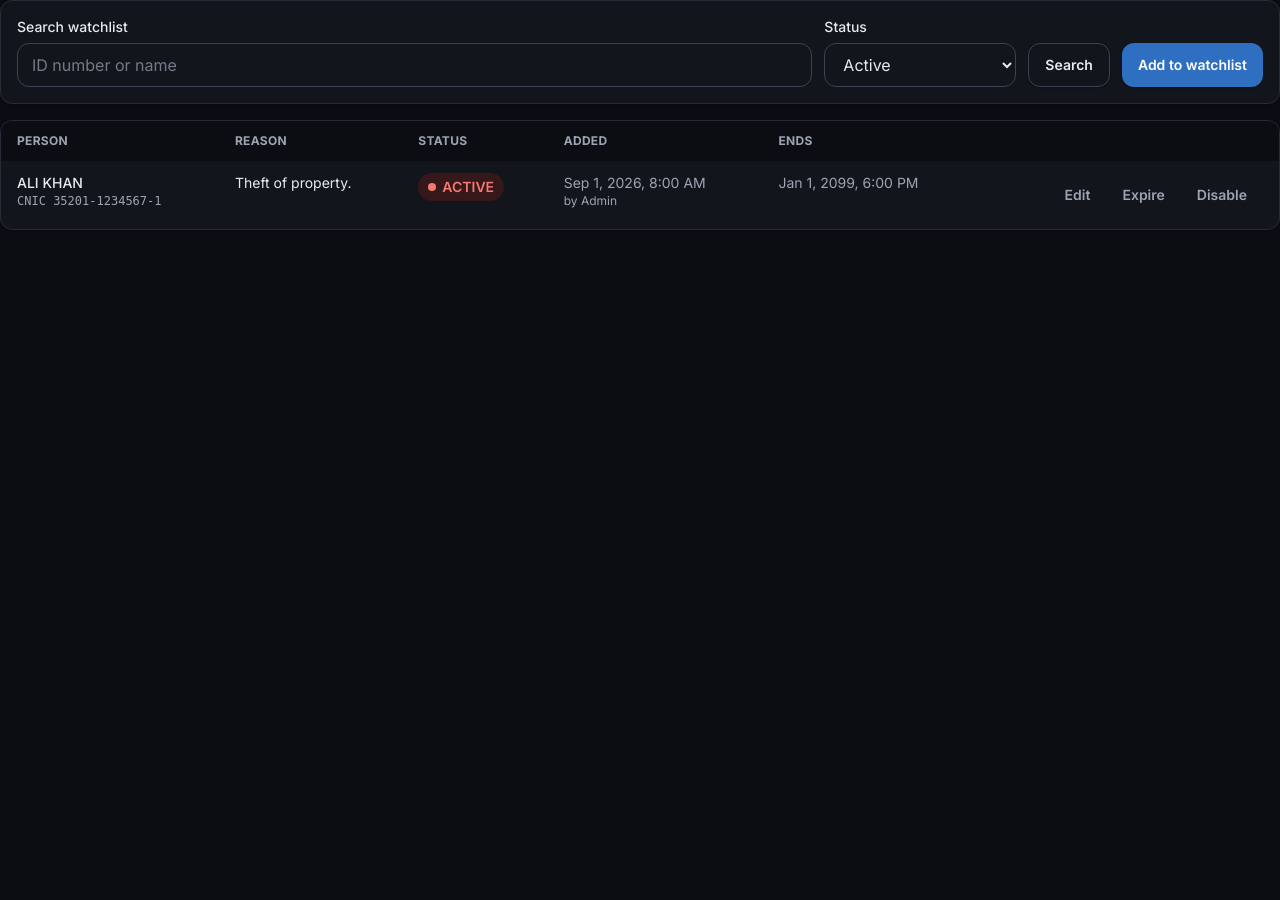
Scenario: WatchlistManager › edits only what changed and can remove the end date
Click the button with aria-label "Edit Ali Khan". click: point(1078, 195)
box: [1049,173,1106,217]
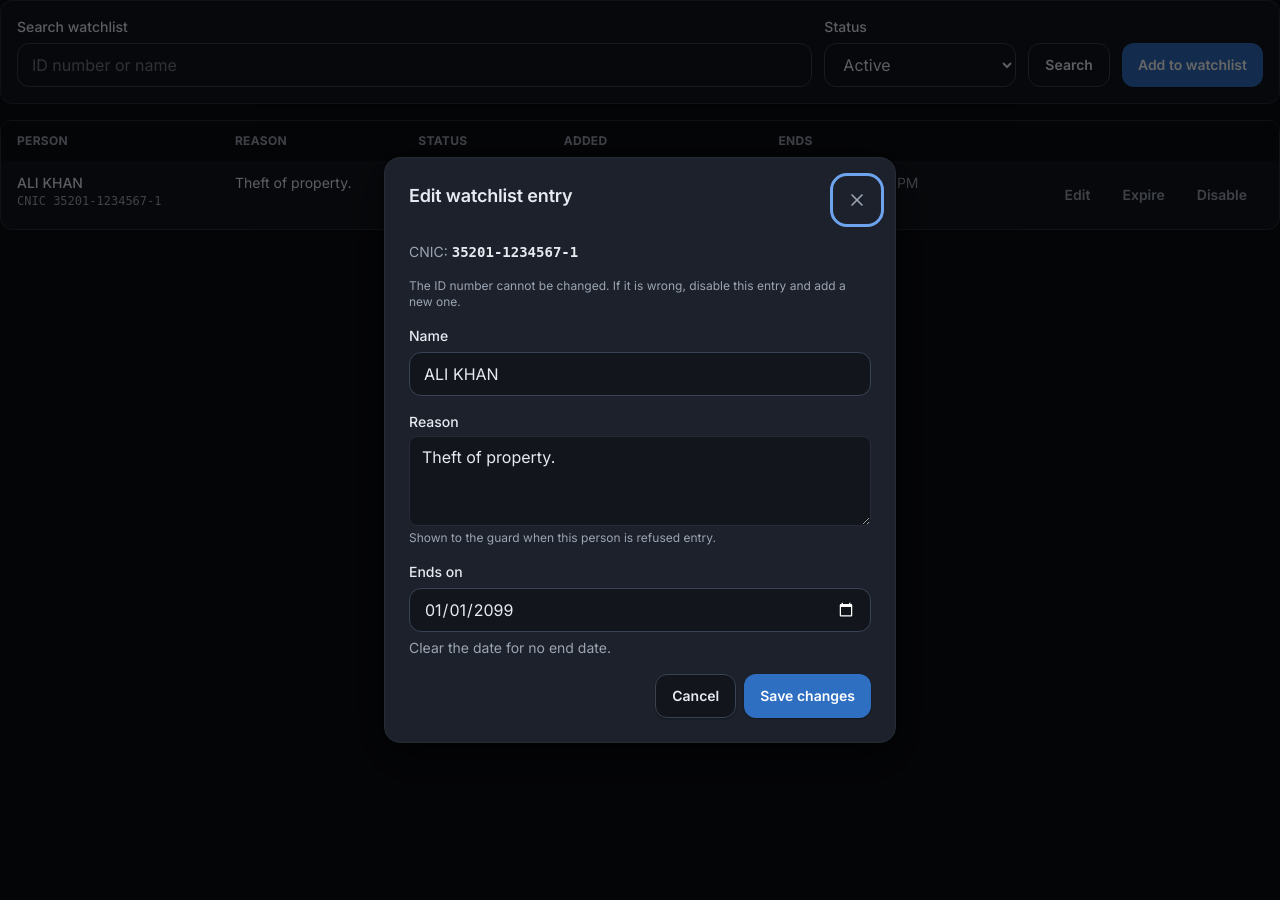
Replace the text in the text box labelled "Reason" with "Threatened staff.". click: point(640, 481)
box: [409,436,871,526]
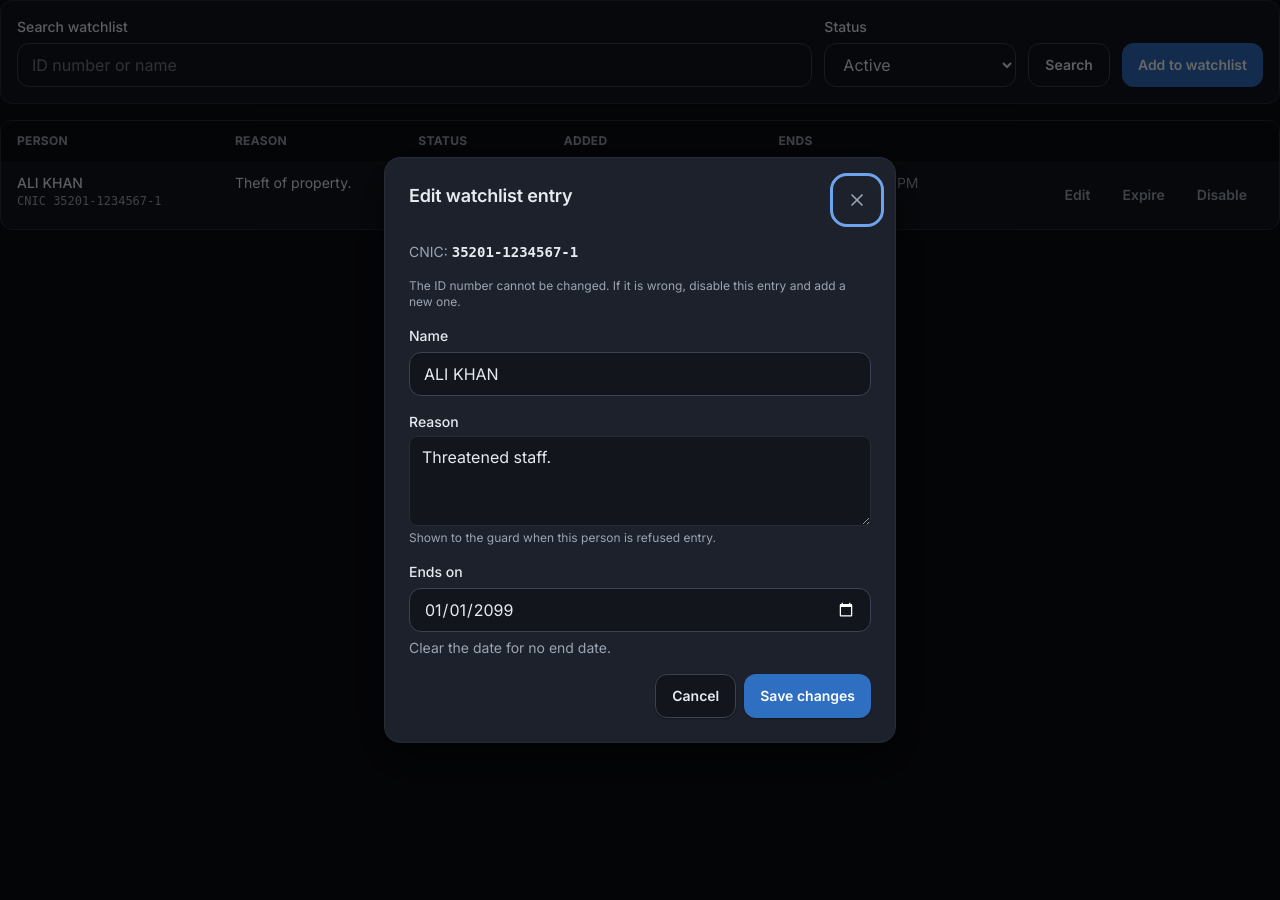
Clear the date field labelled "Ends on". click: point(640, 610)
box: [409,588,871,632]
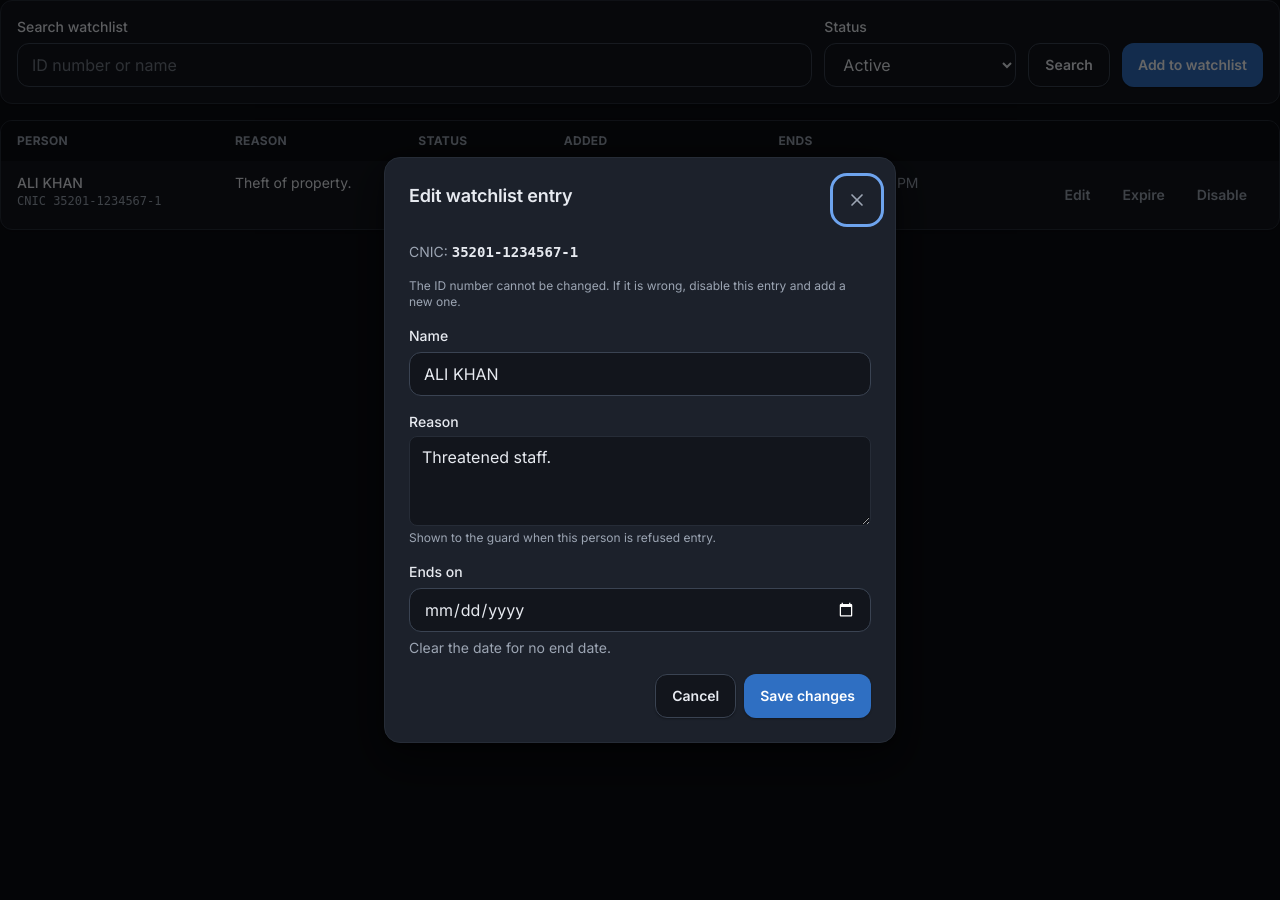
Submit the form named "Reason", box [409,242,871,718]
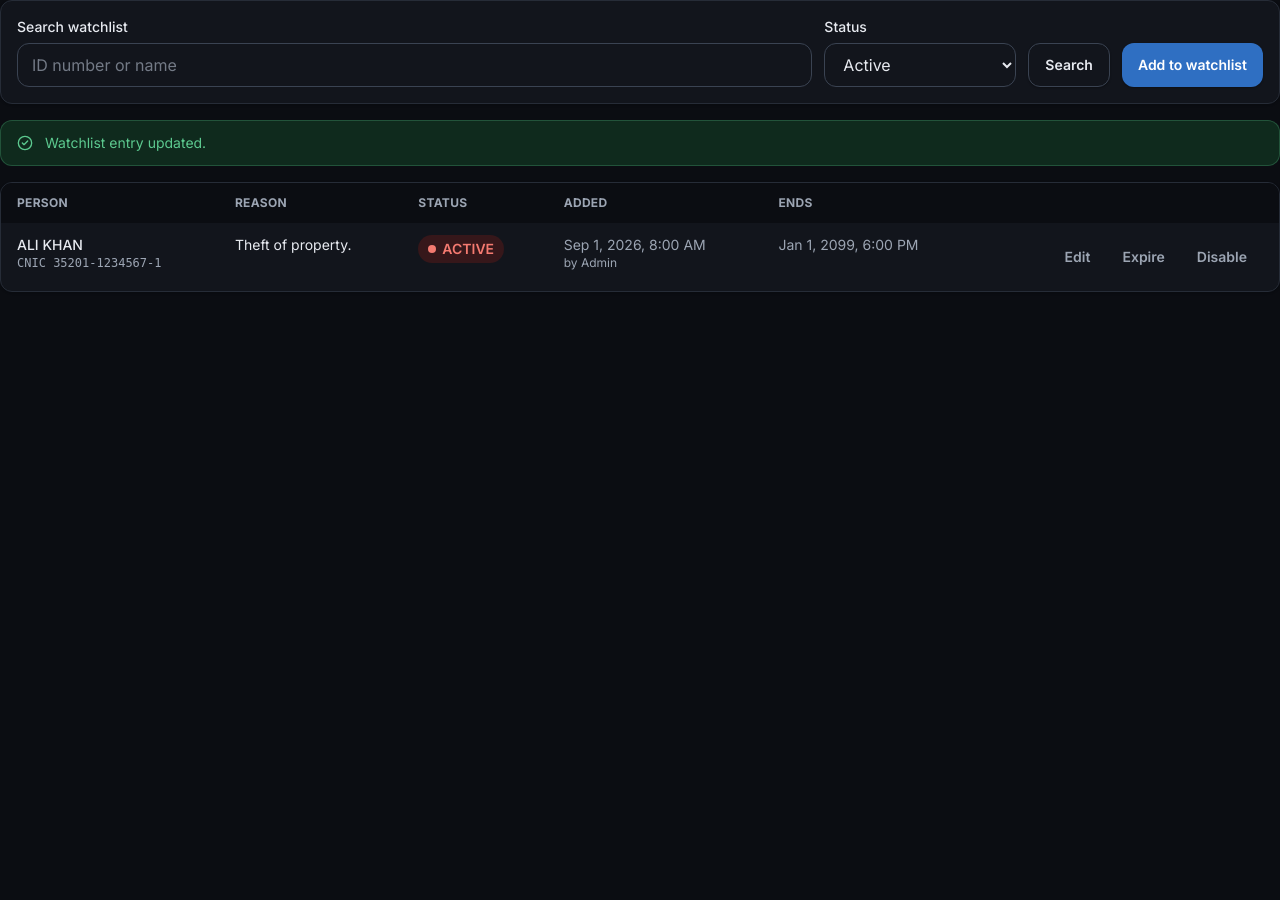
Expected: the text "Watchlist entry updated." is shown, [45,134,206,151]
